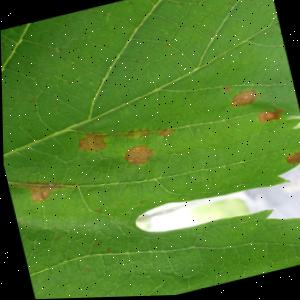Folha: (0, 0, 300, 300)
Fungo: (5, 165, 64, 207), (24, 177, 62, 204), (120, 141, 155, 169), (74, 128, 110, 155), (226, 86, 260, 109), (254, 106, 284, 125), (125, 125, 151, 142), (281, 148, 300, 168), (155, 128, 173, 139), (90, 238, 101, 247), (220, 85, 231, 93)
